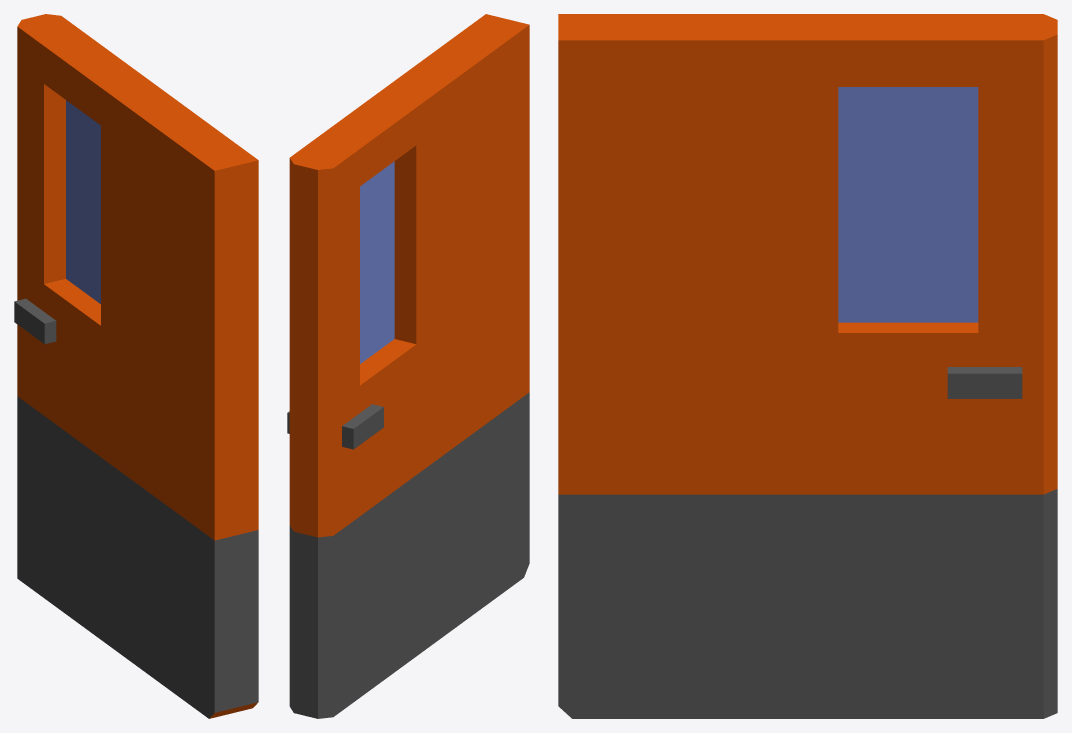
Rendered from mkapisol.fbx.
3 renders of one model, left to right at view 1: azimuth 30°, elevation 25°; view 2: azimuth 150°, elevation 25°; view 3: azimuth 270°, elevation 25°, orthographic. The views are drawn at different scales.
Visible parts, largest first — view 1: mkapisol; view 2: mkapisol; view 3: mkapisol.
Boxes of the visible parts, x1,y1,x2,y2 form: mkapisol: (14, 14, 258, 718); mkapisol: (287, 14, 529, 718); mkapisol: (558, 14, 1057, 718).
Size of the model in its own units: 37.99 by 300 by 200.
